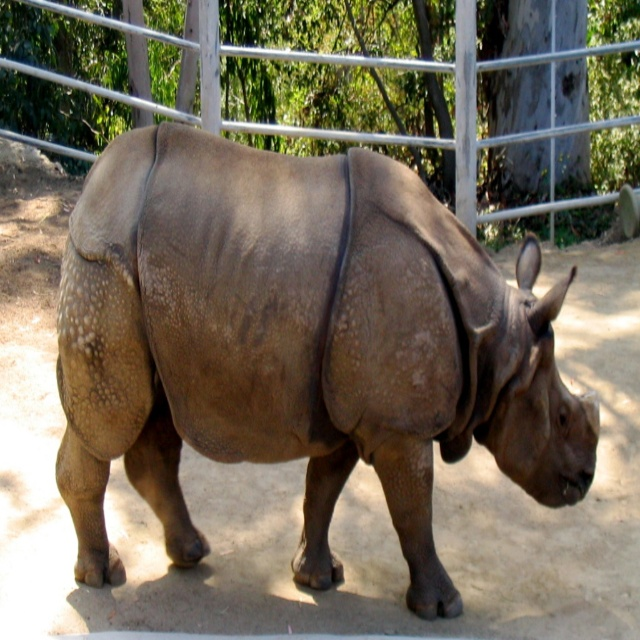Rhinoceros: (52, 116, 601, 624)
